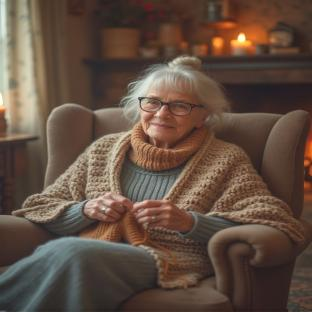Human: (0, 56, 303, 312)
